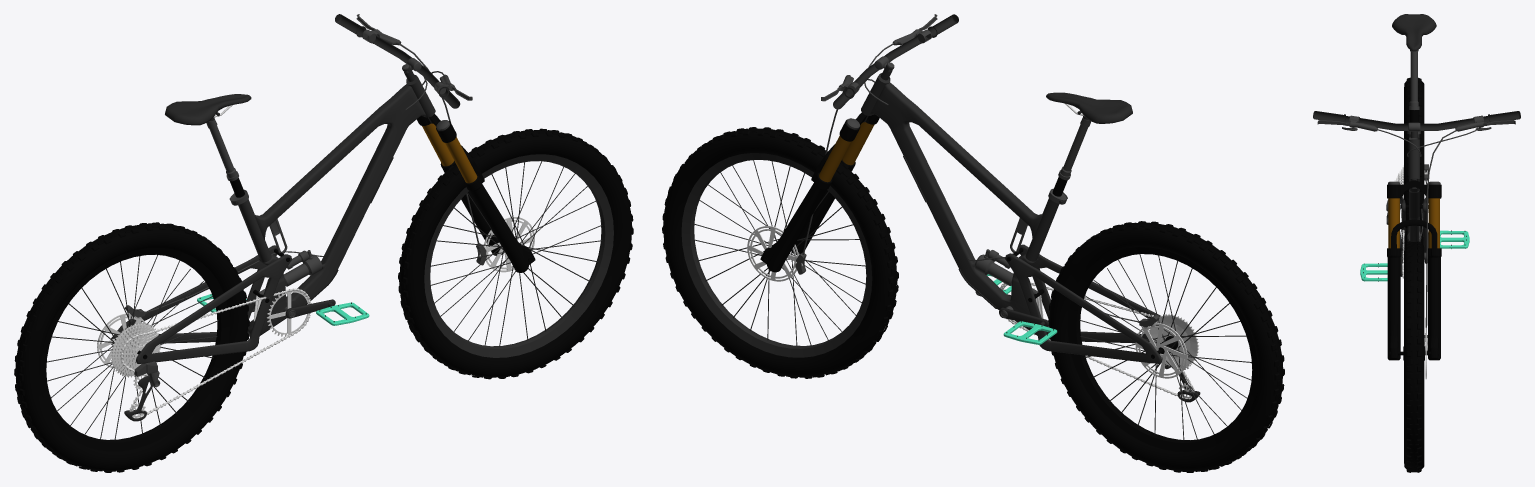
The picture shows the model from 3 angles, left to right: view 1: azimuth 30°, elevation 25°; view 2: azimuth 150°, elevation 25°; view 3: azimuth 270°, elevation 25°; orthographic projection. The views are drawn at different scales.
Parts seen in each view (by area): view 1: Torus, Torus.002, Cube, Torus.001, Torus.003, Cube.001, Cylinder.029, Plane.007, Cylinder.006, Plane.001, Cylinder.026, Cylinder.022 (+8 smaller); view 2: Torus.002, Torus, Cube, Torus.001, Torus.003, Cube.001, Plane.007, Cylinder.006, Cylinder.026, Cylinder.029, Plane.001, Cylinder.022 (+9 smaller); view 3: Torus, Cylinder.006, Plane.001, Cylinder.022, Cylinder.018, Torus.002, Cube.004, Plane.007, Cylinder.001, BezierCurve.002, Cube.001, Cube.010 (+6 smaller).
Boxes of the visible parts, bbox=[...] form: Torus: bbox=[399, 130, 631, 377]; Torus.002: bbox=[16, 224, 247, 470]; Cube: bbox=[247, 84, 426, 336]; Torus.001: bbox=[424, 154, 613, 357]; Torus.003: bbox=[40, 248, 229, 451]; Cube.001: bbox=[111, 245, 291, 363]; Cylinder.029: bbox=[430, 161, 602, 346]; Plane.007: bbox=[14, 222, 249, 472]; Cylinder.006: bbox=[440, 145, 535, 272]; Plane.001: bbox=[398, 128, 633, 379]; Cylinder.026: bbox=[47, 255, 218, 440]; Cylinder.022: bbox=[417, 114, 477, 183]; Torus.002: bbox=[1049, 223, 1282, 471]; Torus: bbox=[663, 128, 896, 377]; Cube: bbox=[870, 82, 1049, 335]; Torus.001: bbox=[681, 153, 872, 357]; Torus.003: bbox=[1067, 247, 1258, 451]; Cube.001: bbox=[1005, 244, 1161, 363]; Plane.007: bbox=[1048, 221, 1284, 472]; Cylinder.006: bbox=[760, 144, 855, 272]; Cylinder.026: bbox=[1079, 254, 1251, 440]; Cylinder.029: bbox=[693, 160, 865, 345]; Plane.001: bbox=[662, 127, 898, 378]; Cylinder.022: bbox=[819, 112, 879, 182]; Torus: bbox=[1404, 242, 1424, 472]; Cylinder.006: bbox=[1387, 219, 1441, 360]; Plane.001: bbox=[1406, 241, 1421, 472]; Cylinder.022: bbox=[1387, 180, 1441, 248]; Cylinder.018: bbox=[1313, 111, 1520, 130]; Torus.002: bbox=[1404, 81, 1424, 246]; Cube.004: bbox=[1392, 14, 1436, 51]; Plane.007: bbox=[1406, 77, 1421, 242]; Cylinder.001: bbox=[1408, 139, 1419, 178]; BezierCurve.002: bbox=[1425, 130, 1456, 332]; Cube.001: bbox=[1400, 197, 1428, 263]; Cube.010: bbox=[1440, 230, 1469, 248].
Size of what is drawn, in the model's own units: 2.01 by 1.08 by 0.6746.
